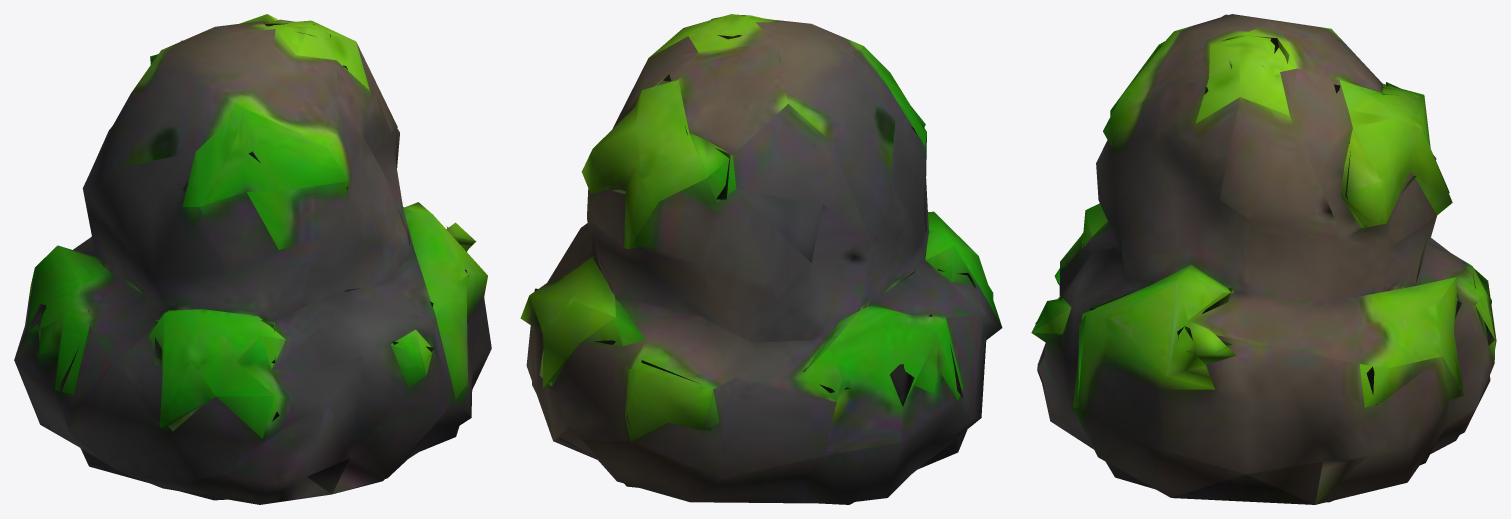
File: lg-swamp-rock.glb
3 renders of one model, left to right at view 1: azimuth 30°, elevation 25°; view 2: azimuth 150°, elevation 25°; view 3: azimuth 270°, elevation 25°, orthographic.
Parts seen in each view (by area): view 1: geometry_0; view 2: geometry_0; view 3: geometry_0.
Part boxes in pixels (x1,y1,x2,y2): geometry_0: [14, 14, 491, 504]; geometry_0: [520, 14, 1002, 504]; geometry_0: [1031, 14, 1496, 504].
Size of the model in its own units: 0.9948 by 0.9365 by 1.
Materials: 1 (1 with a texture image).
